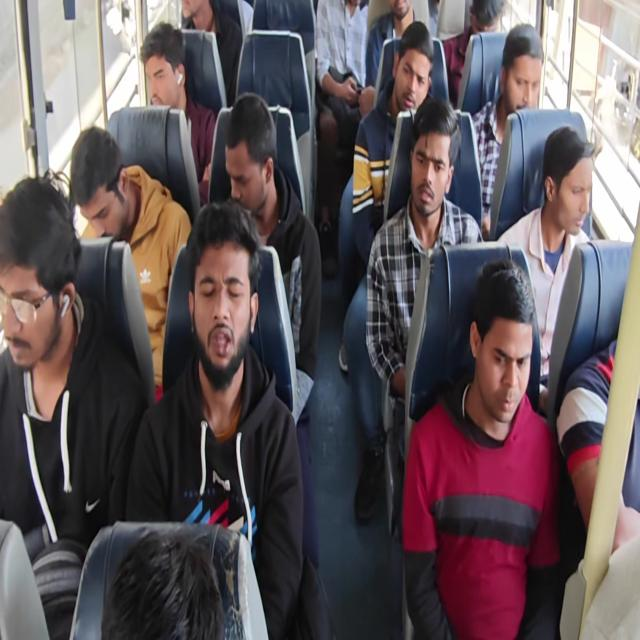person: (115, 518, 246, 640), (0, 187, 71, 379), (189, 235, 248, 370), (550, 141, 610, 257), (485, 298, 531, 427), (68, 132, 123, 235), (409, 118, 447, 234), (221, 106, 266, 199), (396, 36, 434, 121), (508, 34, 543, 116), (462, 0, 510, 53), (143, 42, 179, 108), (173, 0, 215, 34), (386, 0, 413, 29)
